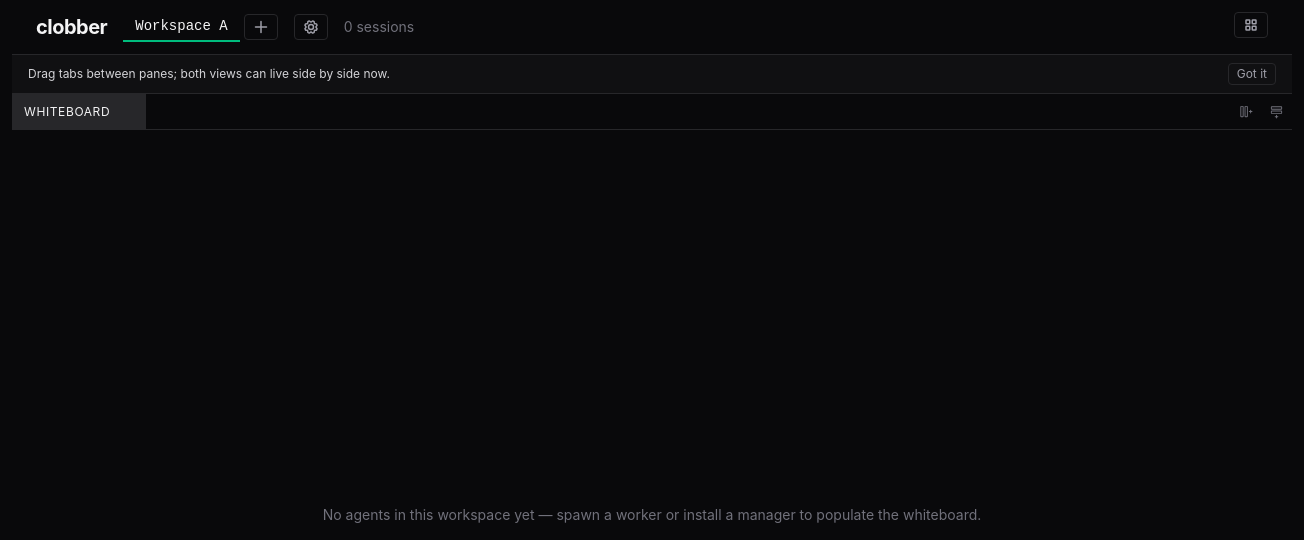
Test: reopen closed panel type from the layout menu (#691) › lists every singleton view kind absent from the layout, excludes the one already open, excludes transcripts
Click the button named "Layout menu" at point(1251, 25), box [1234,12,1268,38]
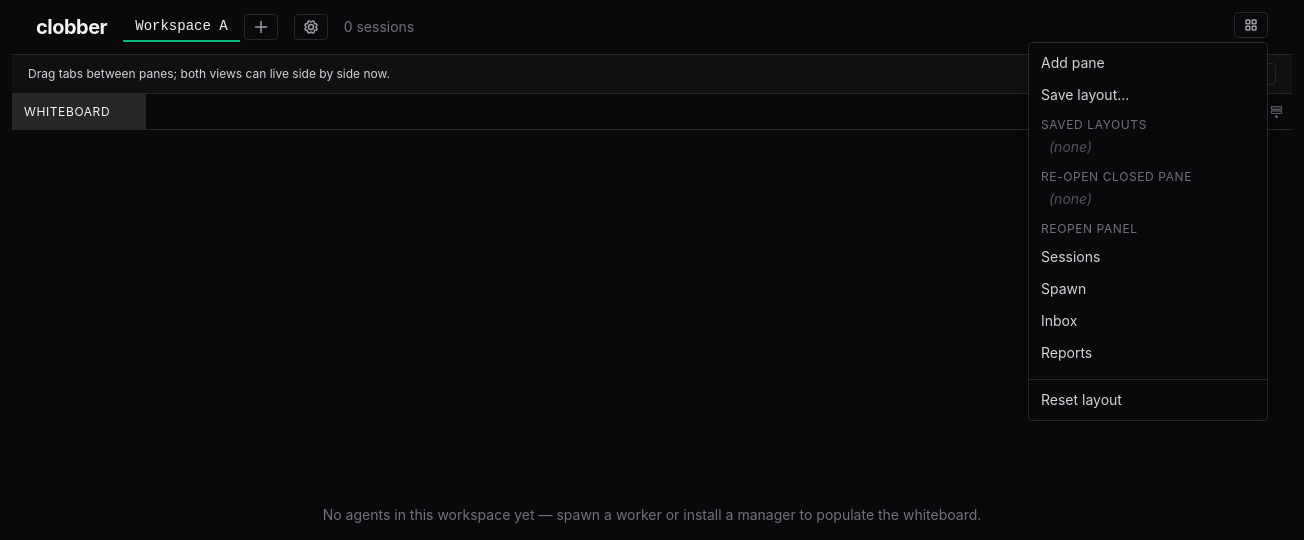
Expected: the text "0 sessions" is shown, [344,17,414,37]
Result: the menu item "Inbox" is shown at [1029,305,1267,337]
Result: the menu item "Reports" is shown at [1029,337,1267,369]
